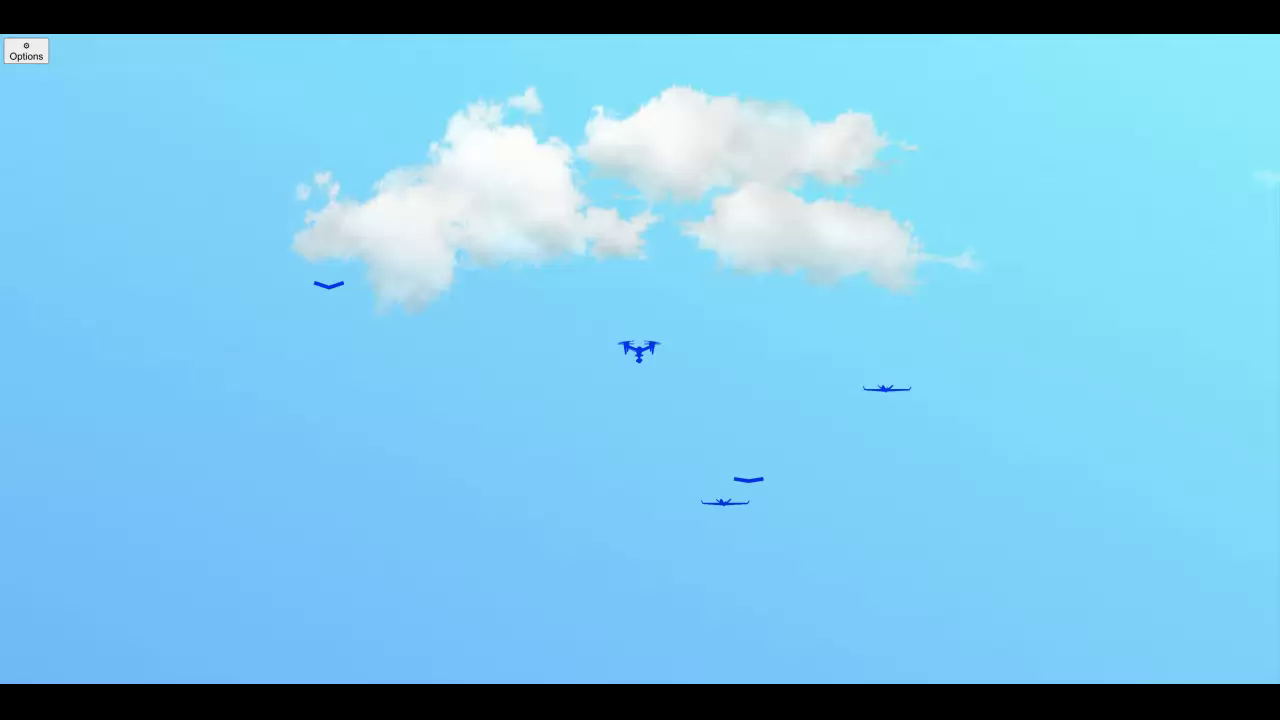Bird: (722, 460, 789, 494), (310, 271, 353, 309)
Drone: (855, 370, 910, 409), (691, 486, 760, 513)
Quadcopter: (607, 329, 673, 370), (609, 331, 672, 363)
